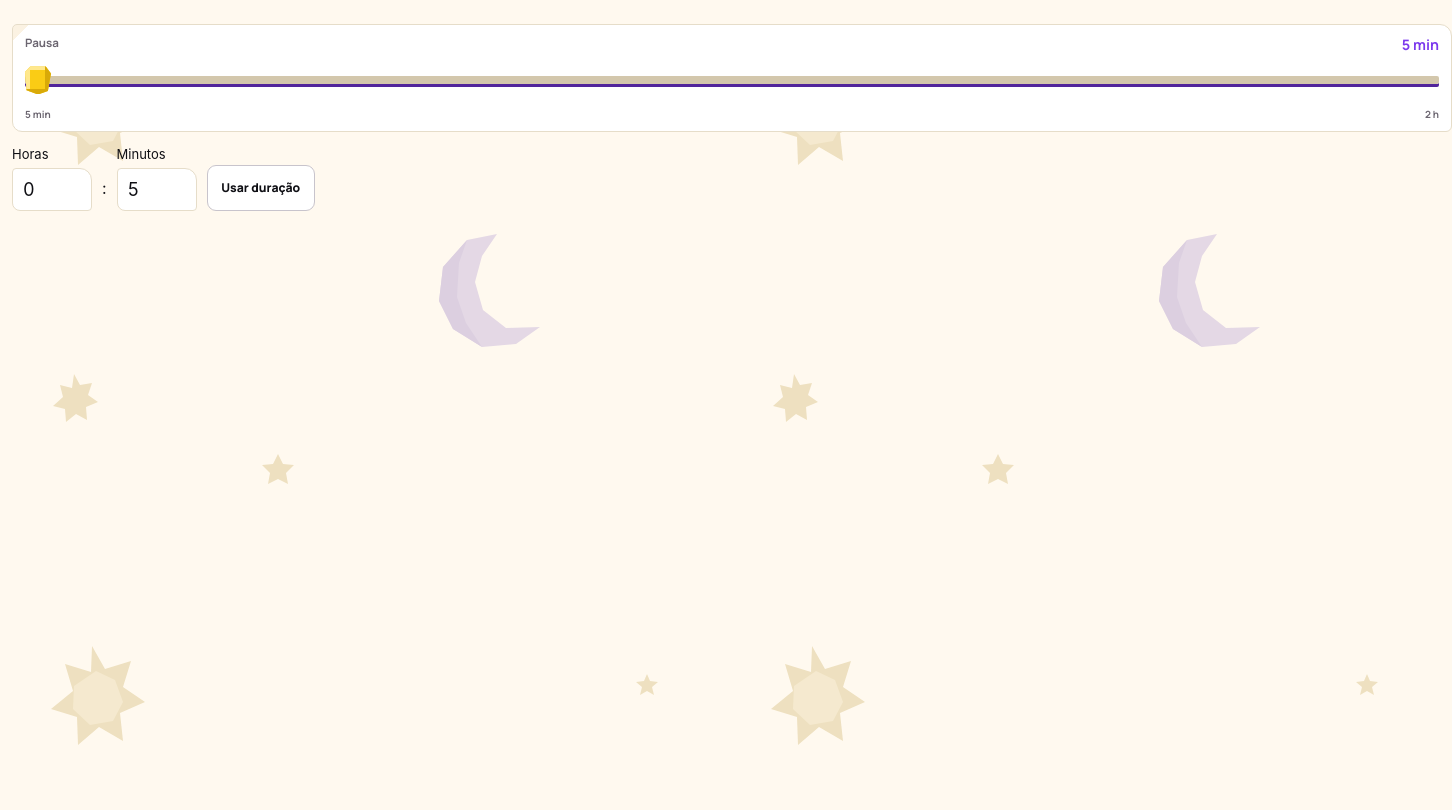
rejeita duração nula sem alterar a preferência
Replace the text in the number field labelled "Minutos" with "0" at (157, 189), box [117,168,197,211]
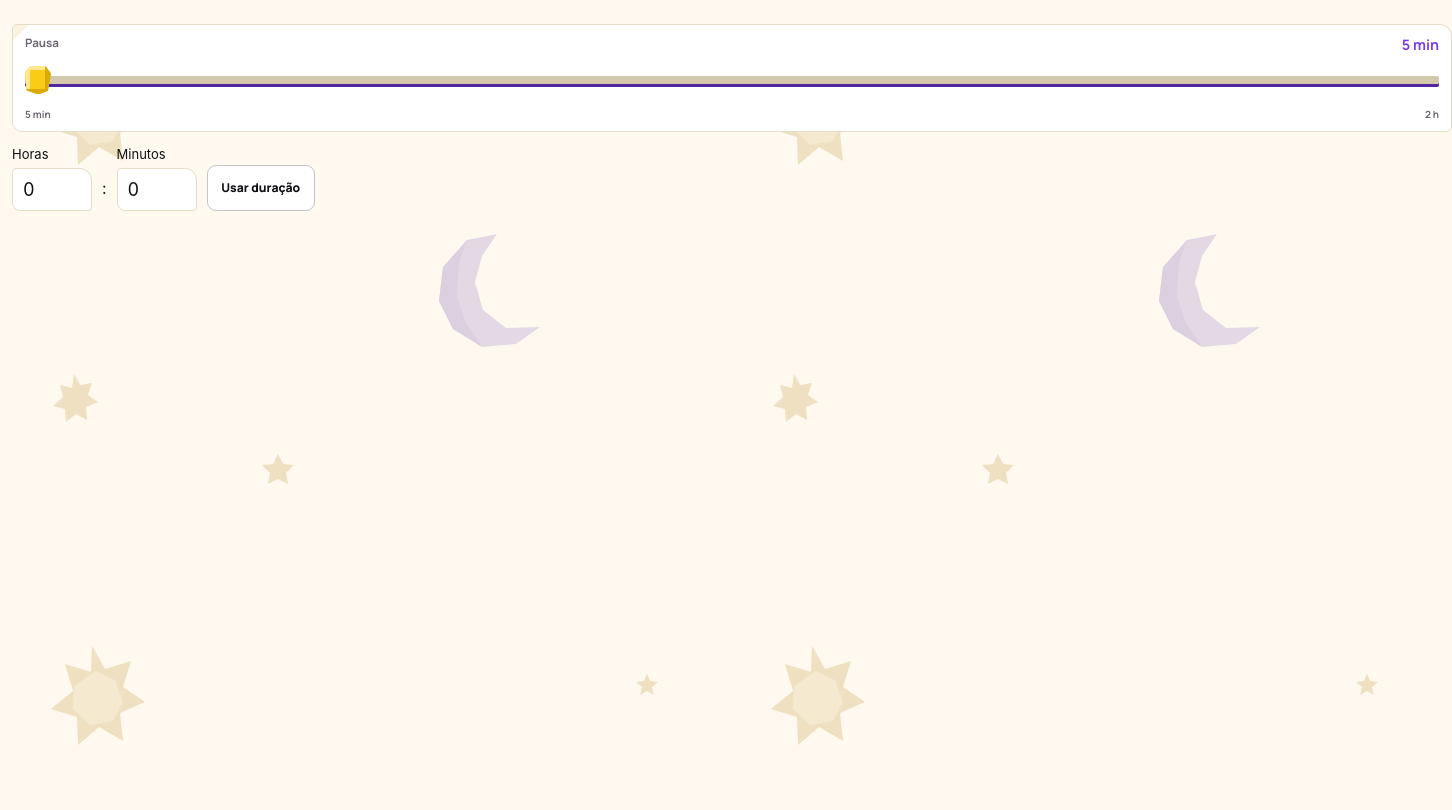
Click the button "Usar duração".
click(261, 188)  # box [207,165,315,211]
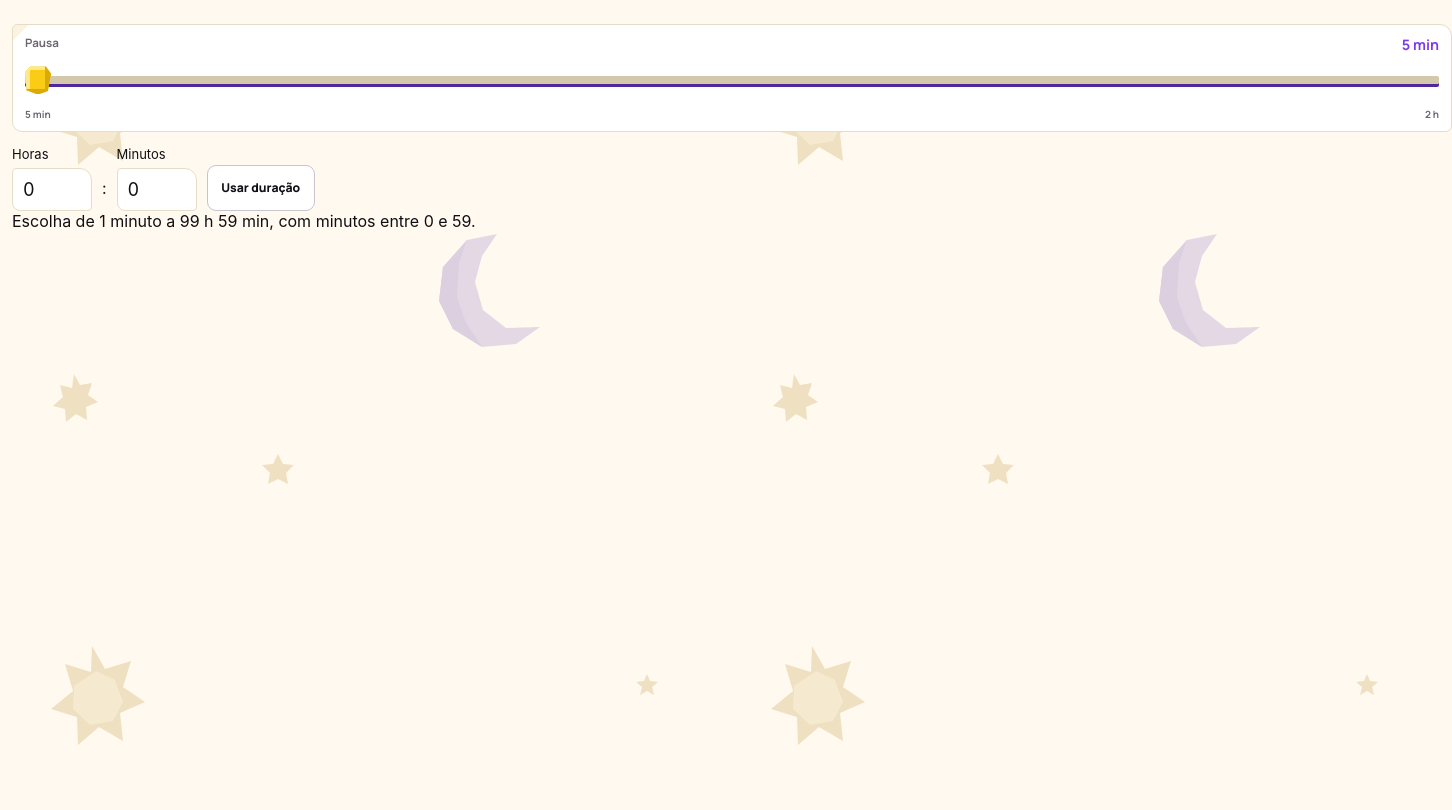
Result: the message "Escolha de 1 minuto a 99 h 59 min, com minutos entre 0 e 59." is shown at [12,211,476,231]
